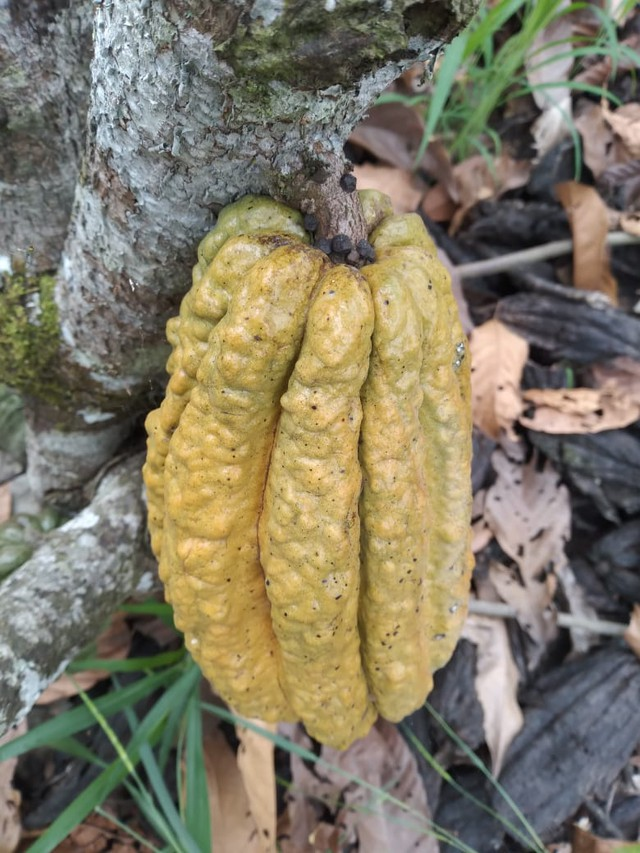Health: (126, 178, 482, 750)
